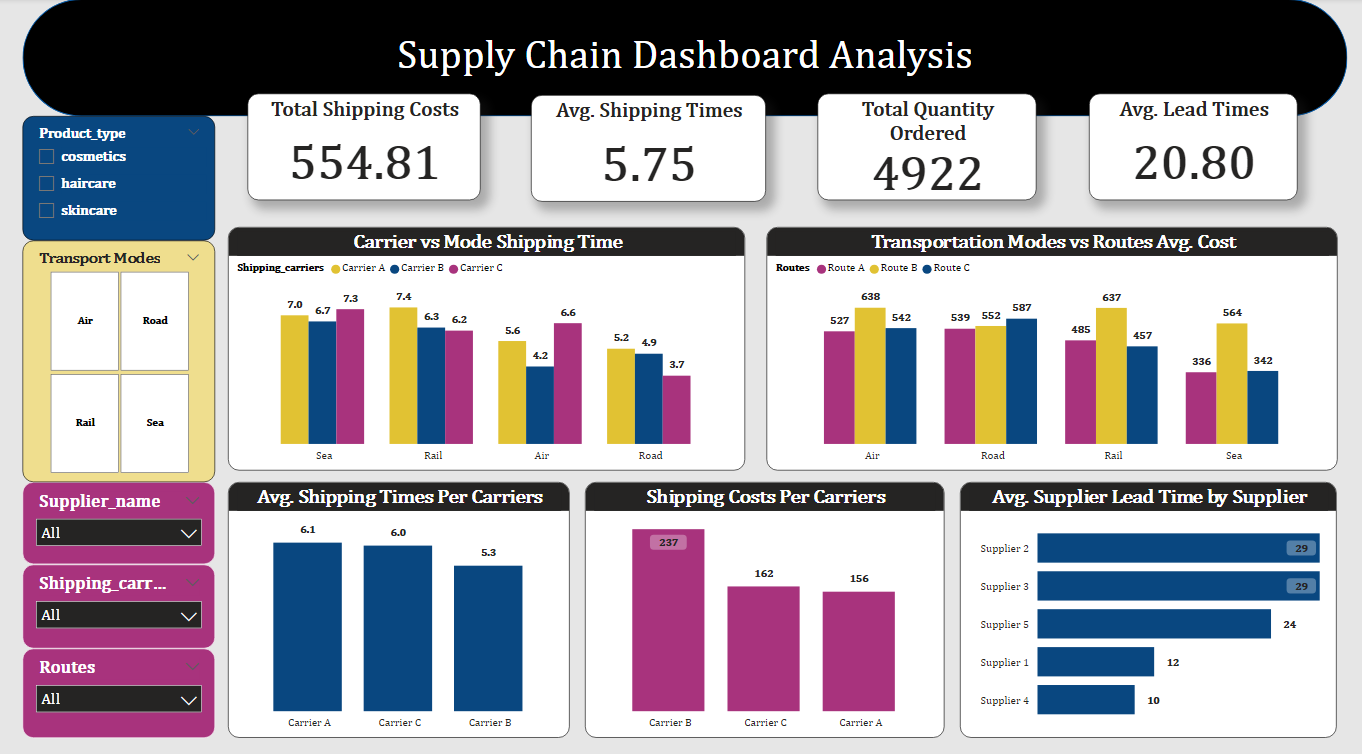

What the dashboard file says about the page in this screenshot:
{"tool":"powerbi","page":{"name":"Shipping & Carrier","canvas":[1480,820],"ordinal":2},"visuals":[{"type":"shape","box":[24.8,0,1440,127.6],"z":0},{"type":"slicer","fields":{"Values":["FactSales.Supplier_name"]},"box":[24.8,525.7,209.5,89.5],"z":4000},{"type":"slicer","fields":{"Values":["DimShipping.Shipping_carriers"]},"box":[24.8,615.2,209.5,91.4],"z":5000},{"type":"slicer","fields":{"Values":["DimShipping.Routes"]},"box":[24.8,706.7,209.5,97.1],"z":6000},{"type":"slicer","fields":{"Values":["DimShipping.Transportation_modes"]},"box":[24.8,262.9,209.5,262.9],"z":7000},{"type":"slicer","fields":{"Values":["DimProducts.Product_type"]},"box":[24.8,127.6,209.5,135.2],"z":8000},{"type":"card","title":"Total Shipping Costs","fields":{"Values":["Dax Measures.Total Shipping Costs"]},"box":[268.6,102.9,253.3,116.2],"z":10000},{"type":"card","title":"Avg. Shipping Times","fields":{"Values":["Dax Measures.Average Shipping Times"]},"box":[577.8,104.8,255.2,116.2],"z":11000},{"type":"card","title":"Total Quantity  Ordered","fields":{"Values":["Dax Measures.Total Quantity Ordered"]},"box":[888.9,102.9,238.1,116.2],"z":12000},{"type":"card","title":"Avg. Lead Times","fields":{"Values":["Dax Measures.Averge Lead times"]},"box":[1182.9,102.9,226.7,116.2],"z":13000},{"type":"columnChart","title":"Shipping Costs Per Carriers","fields":{"Category":["DimShipping.Shipping_carriers"],"Y":["Dax Measures.Total Shipping Costs"]},"box":[636.2,525.7,390.5,278.1],"z":13002},{"type":"columnChart","title":"Avg. Shipping Times Per Carriers","fields":{"Category":["DimShipping.Shipping_carriers"],"Y":["Dax Measures.Average Shipping Times"]},"box":[247.6,525.7,371.4,278.1],"z":13003},{"type":"clusteredColumnChart","title":"Transportation Modes vs Routes Avg. Cost","fields":{"Category":["DimShipping.Transportation_modes"],"Y":["Dax Measures.Avg Road Costs"],"Series":["DimShipping.Routes"]},"box":[832.4,247.6,621,264.8],"z":13005},{"type":"clusteredColumnChart","title":"Carrier vs Mode Shipping Time","fields":{"Category":["DimShipping.Transportation_modes"],"Y":["Dax Measures.Average Shipping Times"],"Series":["DimShipping.Shipping_carriers"]},"box":[247.6,247.6,561.9,264.8],"z":13006},{"type":"barChart","title":"Avg. Supplier Lead Time by Supplier","fields":{"Category":["DimSuppliers.Supplier_name"],"Y":["Dax Measures.AverageSupplierLeadTime"]},"box":[1043.8,525.7,409.5,278.1],"z":13007}]}

Visuals, with their boxes in screenshot pixels (x1, y1, x2, y2), scaled from the page's 1480x820 canvas onto the 1362x754 screenshot:
shape: bbox=(23, 0, 1348, 117)
slicer - FactSales.Supplier_name: bbox=(23, 483, 216, 566)
slicer - DimShipping.Shipping_carriers: bbox=(23, 566, 216, 650)
slicer - DimShipping.Routes: bbox=(23, 650, 216, 739)
slicer - DimShipping.Transportation_modes: bbox=(23, 242, 216, 483)
slicer - DimProducts.Product_type: bbox=(23, 117, 216, 242)
"Total Shipping Costs" card: bbox=(247, 95, 480, 201)
"Avg. Shipping Times" card: bbox=(532, 96, 767, 203)
"Total Quantity  Ordered" card: bbox=(818, 95, 1037, 201)
"Avg. Lead Times" card: bbox=(1089, 95, 1297, 201)
"Shipping Costs Per Carriers" columnChart: bbox=(585, 483, 945, 739)
"Avg. Shipping Times Per Carriers" columnChart: bbox=(228, 483, 570, 739)
"Transportation Modes vs Routes Avg. Cost" clusteredColumnChart: bbox=(766, 228, 1338, 471)
"Carrier vs Mode Shipping Time" clusteredColumnChart: bbox=(228, 228, 745, 471)
"Avg. Supplier Lead Time by Supplier" barChart: bbox=(961, 483, 1337, 739)
